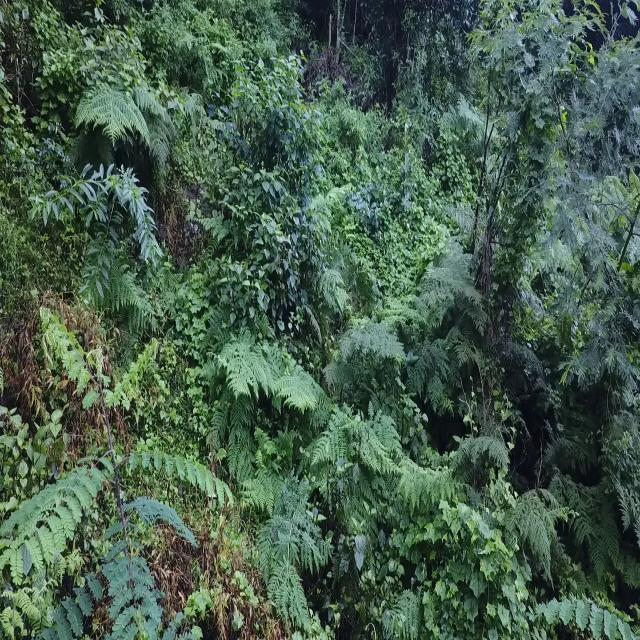Mysore-Thorn-Weed: (0, 324, 219, 640)
